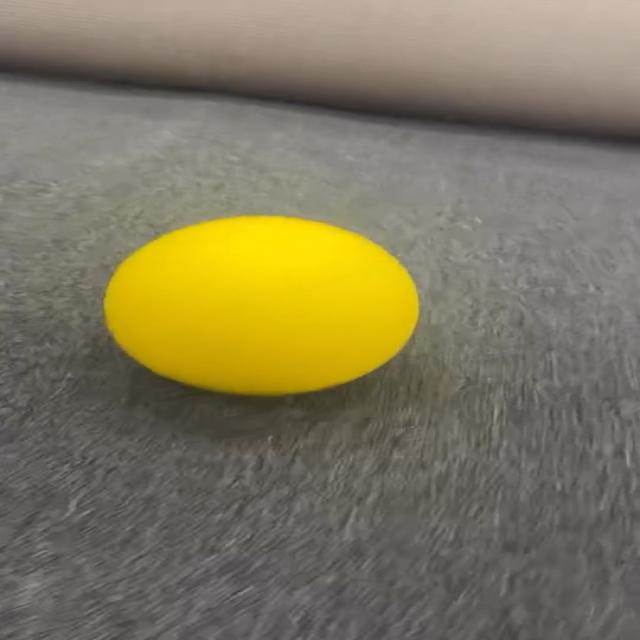Fuels: (105, 216, 418, 394)
